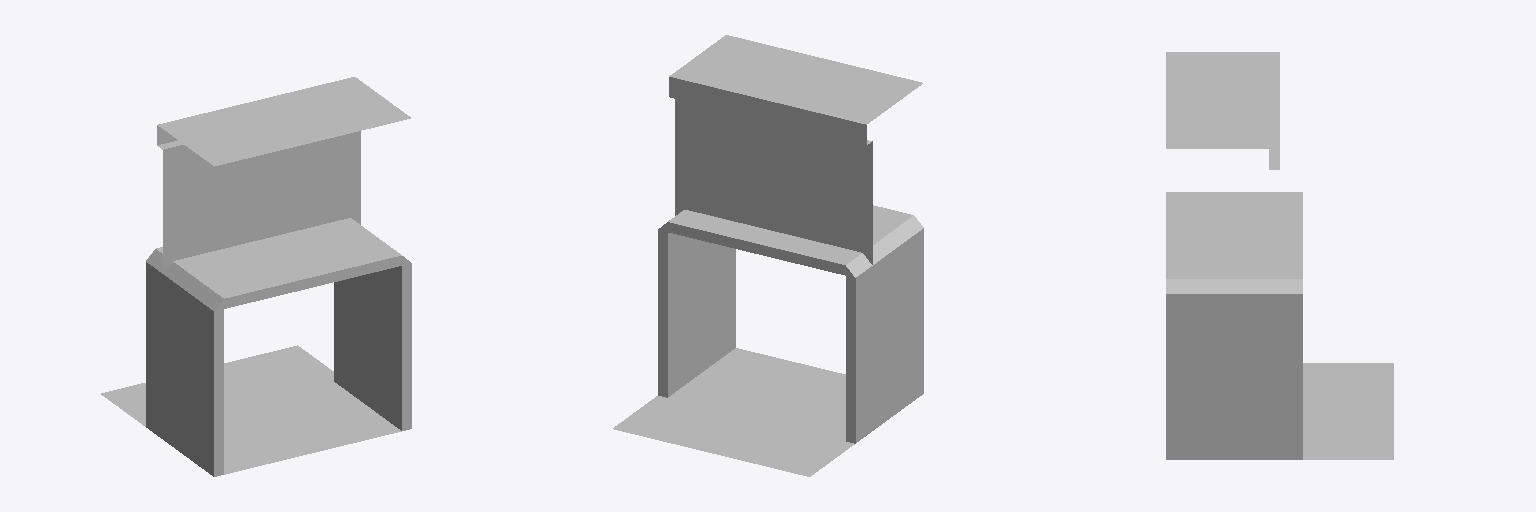
Rendered from structure-doorway-wide.obj.
The picture shows the model from 3 angles: view 1: azimuth 30°, elevation 25°; view 2: azimuth 150°, elevation 25°; view 3: azimuth 270°, elevation 25°; orthographic projection.
Parts seen in each view (by area): view 1: structure-doorway-wide; view 2: structure-doorway-wide; view 3: structure-doorway-wide.
Part boxes in pixels (x1,y1,x2,y2): structure-doorway-wide: (101,77,411,476); structure-doorway-wide: (613,35,923,476); structure-doorway-wide: (1166,52,1393,459).
Bounding box in the file's own units: 2 × 3 × 2.